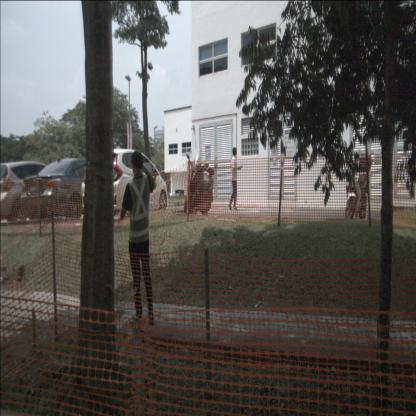human-pedestrian-adult: (228, 147, 242, 211)
vehicle-car: (81, 148, 168, 221), (20, 157, 119, 221), (0, 160, 67, 226)
vehicle-motorcycle: (343, 153, 373, 222), (183, 153, 214, 217)
